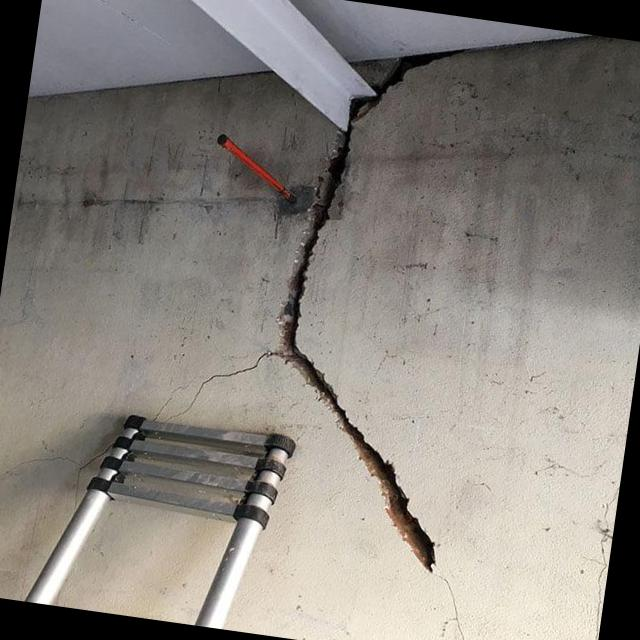crack: (278, 49, 454, 571)
